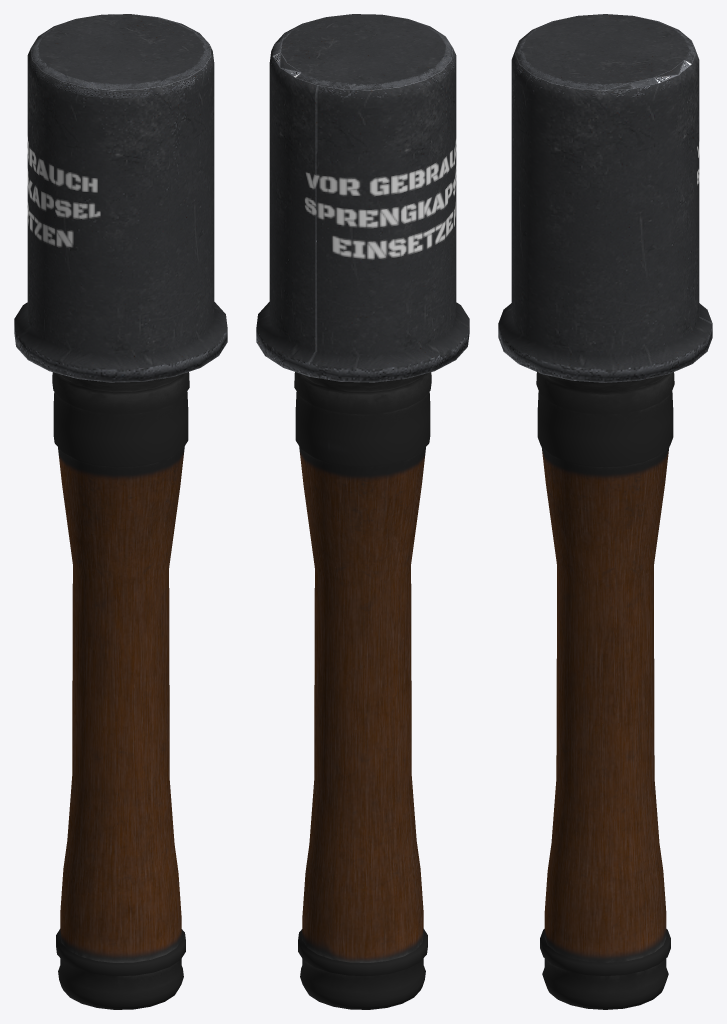
Rendered from stielhandgranate.fbx.
3 renders of one model, left to right at view 1: azimuth 30°, elevation 25°; view 2: azimuth 150°, elevation 25°; view 3: azimuth 270°, elevation 25°, orthographic.
Parts seen in each view (by area): view 1: Steilhandgranate; view 2: Steilhandgranate; view 3: Steilhandgranate.
Boxes of the visible parts, x1,y1,x2,y2 form: Steilhandgranate: (14, 14, 227, 1009); Steilhandgranate: (256, 14, 469, 1009); Steilhandgranate: (498, 14, 712, 1009).
Size of the model in its own units: 10.04 by 48.43 by 10.04.
